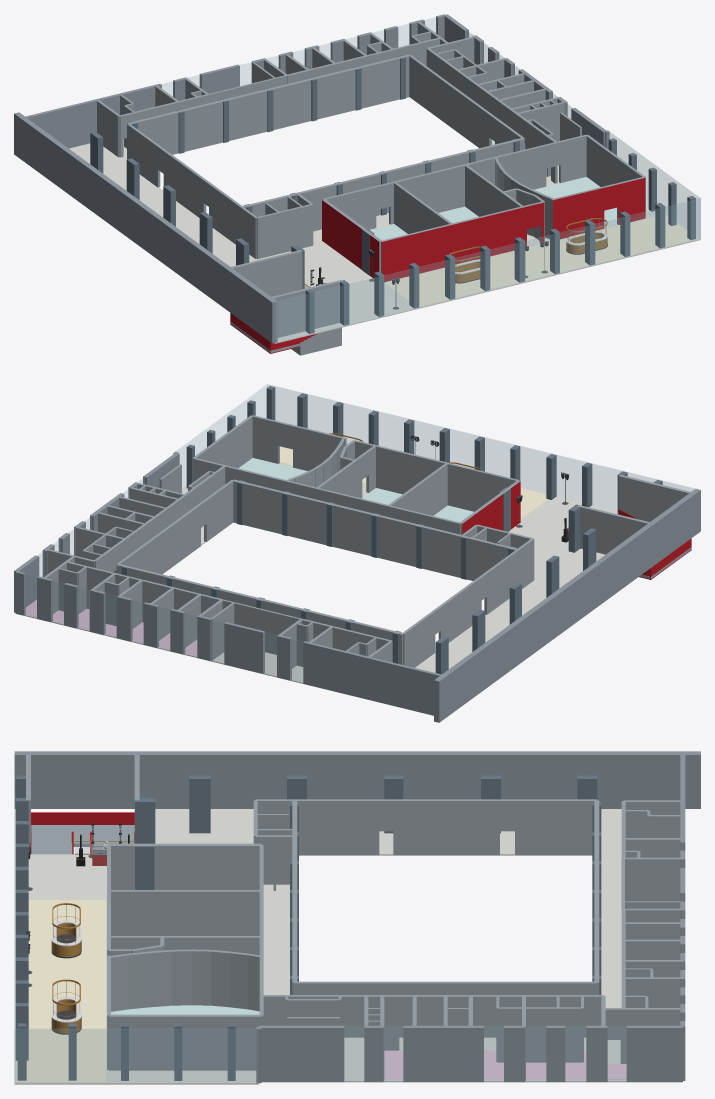
The model's file is floor03.glb.
The picture shows the model from 3 angles, top to bottom: view 1: azimuth 30°, elevation 25°; view 2: azimuth 150°, elevation 25°; view 3: azimuth 270°, elevation 25°; orthographic projection. The views are drawn at different scales.
Parts seen in each view (by area): view 1: Arch_F3_verified_outer_south_end__web, Arch_F3_verified_outer_west_end__web, Arch_F3_verified_hall_north_end__web, Arch_Room_F3_verified_Networking_bar__web, Arch_F3_verified_cinemas_south_end__web, Arch_F3_verified_hall_east_00__web, Arch_F3_verified_cinemas_north_end__web, Arch_F3_verified_hall_south_end__web, Arch_F3_verified_outer_north_00__web, Arch_F3_verified_main_stair_south_end__web, Arch_F3_verified_lift_south_end__web, Arch_F3_verified_cinema2_west_end__web (+25 smaller); view 2: Arch_F3_verified_outer_west_end__web, Arch_F3_verified_hall_south_end__web, Arch_F3_verified_outer_south_end__web, Arch_F3_verified_outer_north_00__web, Arch_F3_verified_cinemas_south_end__web, Arch_F3_verified_hall_north_end__web, Arch_F3_verified_hall_east_00__web, Arch_F3_verified_main_stair_south_end__web, Arch_Floor_F3_verified_02__web, Arch_F3_verified_main_stair_north_end__web, Arch_F3_verified_outer_north_02__web, Arch_Floor_F3_verified_04__web (+45 smaller); view 3: Arch_F3_verified_outer_west_end__web, Arch_F3_verified_outer_east_south_end__web, Arch_Room_F3_verified_Networking_bar__web, Arch_F3_verified_cinema4_east_end__web, Arch_F3_verified_cinema2_3_shared_end__web, Arch_F3_verified_cinema2_west_end__web, Arch_F3_verified_hall_west_01__web, Arch_F3_verified_outer_east_north_end__web, Arch_F3_verified_outer_east_north_04__web, Arch_Floor_F3_verified_04__web, Arch_F3_verified_hall_west_end__web, Arch_Floor_F3_verified_00__web (+64 smaller).
Boxes of the visible parts, x1=… form: Arch_F3_verified_outer_south_end__web: x1=275, y1=198, x2=700, y2=342; Arch_F3_verified_outer_west_end__web: x1=14, y1=112, x2=277, y2=343; Arch_F3_verified_hall_north_end__web: x1=127, y1=54, x2=410, y2=154; Arch_Room_F3_verified_Networking_bar__web: x1=384, y1=215, x2=697, y2=306; Arch_F3_verified_cinemas_south_end__web: x1=381, y1=206, x2=523, y2=282; Arch_F3_verified_hall_east_00__web: x1=409, y1=55, x2=491, y2=148; Arch_F3_verified_cinemas_north_end__web: x1=414, y1=147, x2=536, y2=212; Arch_F3_verified_hall_south_end__web: x1=241, y1=138, x2=524, y2=231; Arch_F3_verified_outer_north_00__web: x1=25, y1=83, x2=161, y2=148; Arch_F3_verified_main_stair_south_end__web: x1=272, y1=280, x2=342, y2=337; Arch_F3_verified_lift_south_end__web: x1=256, y1=204, x2=312, y2=259; Arch_F3_verified_cinema2_west_end__web: x1=322, y1=199, x2=382, y2=278; Arch_F3_verified_outer_west_end__web: x1=434, y1=489, x2=700, y2=722; Arch_F3_verified_hall_south_end__web: x1=232, y1=479, x2=518, y2=580; Arch_F3_verified_outer_south_end__web: x1=267, y1=384, x2=694, y2=510; Arch_F3_verified_outer_north_00__web: x1=303, y1=641, x2=441, y2=715; Arch_F3_verified_cinemas_south_end__web: x1=376, y1=445, x2=519, y2=511; Arch_F3_verified_hall_north_end__web: x1=117, y1=564, x2=403, y2=664; Arch_F3_verified_hall_east_00__web: x1=116, y1=504, x2=200, y2=574; Arch_F3_verified_main_stair_south_end__web: x1=618, y1=474, x2=690, y2=521; Arch_Floor_F3_verified_02__web: x1=415, y1=592, x2=545, y2=672; Arch_F3_verified_main_stair_north_end__web: x1=577, y1=505, x2=649, y2=554; Arch_F3_verified_outer_north_02__web: x1=224, y1=622, x2=264, y2=673; Arch_Floor_F3_verified_04__web: x1=182, y1=485, x2=604, y2=587; Arch_F3_verified_outer_west_end__web: x1=14, y1=751, x2=700, y2=808; Arch_F3_verified_outer_east_south_end__web: x1=15, y1=1029, x2=257, y2=1082; Arch_Room_F3_verified_Networking_bar__web: x1=16, y1=900, x2=105, y2=1081; Arch_F3_verified_cinema4_east_end__web: x1=109, y1=1014, x2=261, y2=1070; Arch_F3_verified_cinema2_3_shared_end__web: x1=109, y1=890, x2=261, y2=935; Arch_F3_verified_cinema2_west_end__web: x1=109, y1=843, x2=261, y2=889; Arch_F3_verified_hall_west_01__web: x1=393, y1=799, x2=499, y2=855; Arch_F3_verified_outer_east_north_end__web: x1=258, y1=1025, x2=344, y2=1082; Arch_F3_verified_outer_east_north_04__web: x1=403, y1=1025, x2=483, y2=1082; Arch_Floor_F3_verified_04__web: x1=137, y1=809, x2=258, y2=1084; Arch_F3_verified_hall_west_end__web: x1=295, y1=799, x2=379, y2=855; Arch_Floor_F3_verified_00__web: x1=601, y1=809, x2=626, y2=1082.
Size of the model in its own units: 54.88 by 8.28 by 57.37.
